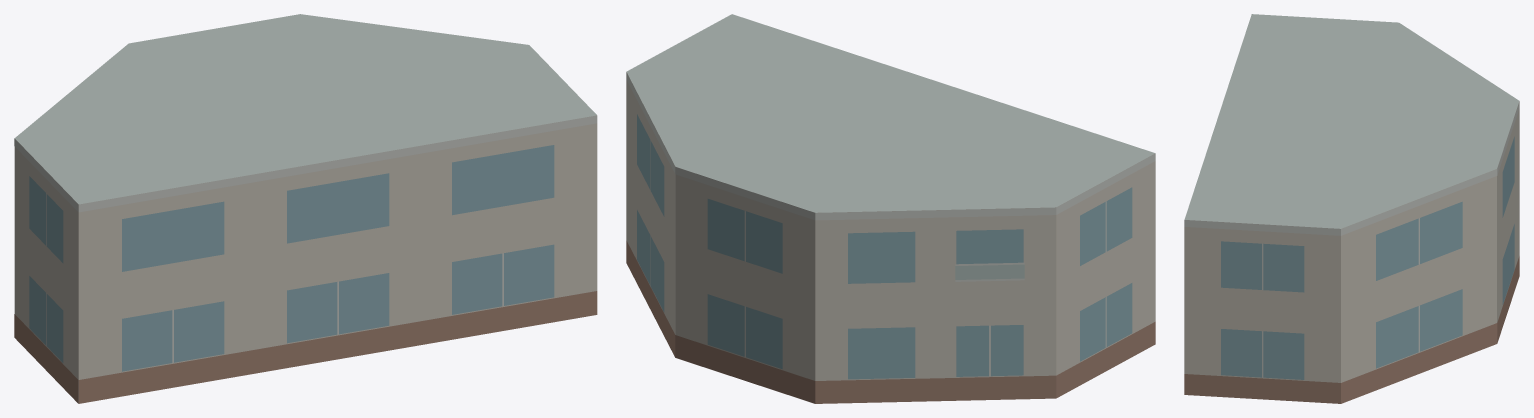
File: survey-upis-32674788.glb
The picture shows the model from 3 angles, left to right: view 1: azimuth 30°, elevation 25°; view 2: azimuth 150°, elevation 25°; view 3: azimuth 270°, elevation 25°; orthographic projection. The views are drawn at different scales.
Parts seen in each view (by area): view 1: survey-upis-32674788.tmp; view 2: survey-upis-32674788.tmp; view 3: survey-upis-32674788.tmp.
Part boxes in pixels (bbox=[...]): survey-upis-32674788.tmp: bbox=[14, 14, 597, 403]; survey-upis-32674788.tmp: bbox=[626, 14, 1155, 403]; survey-upis-32674788.tmp: bbox=[1184, 14, 1519, 403].
Bounding box in the file's own units: 16.07 × 6.1 × 10.6.
